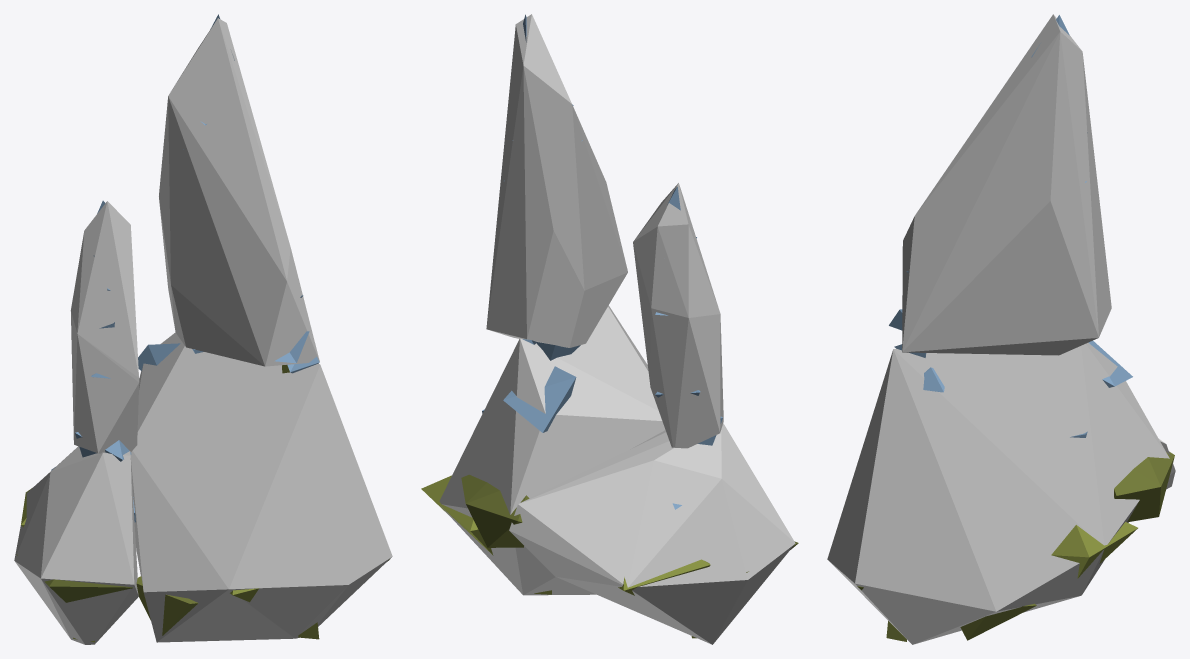
Rendered from SM_Env_Flowers_07.fbx.
3 views of the same model, side by side, from view 1: azimuth 30°, elevation 25°; view 2: azimuth 150°, elevation 25°; view 3: azimuth 270°, elevation 25° (orthographic). The views are drawn at different scales.
Visible parts, largest first — view 1: SM_Env_Flowers_07_ConvexHulls, SM_Env_Flowers_07; view 2: SM_Env_Flowers_07_ConvexHulls, SM_Env_Flowers_07; view 3: SM_Env_Flowers_07_ConvexHulls, SM_Env_Flowers_07.
Boxes of the visible parts, x1,y1,x2,y2 form: SM_Env_Flowers_07_ConvexHulls: (14, 18, 392, 644); SM_Env_Flowers_07: (16, 14, 389, 642); SM_Env_Flowers_07_ConvexHulls: (439, 14, 795, 644); SM_Env_Flowers_07: (421, 14, 798, 638); SM_Env_Flowers_07_ConvexHulls: (827, 14, 1175, 644); SM_Env_Flowers_07: (857, 15, 1174, 641).
Size of the model in its own units: 68.57 by 62.15 by 122.
Materials: 2 (1 with a texture image).
